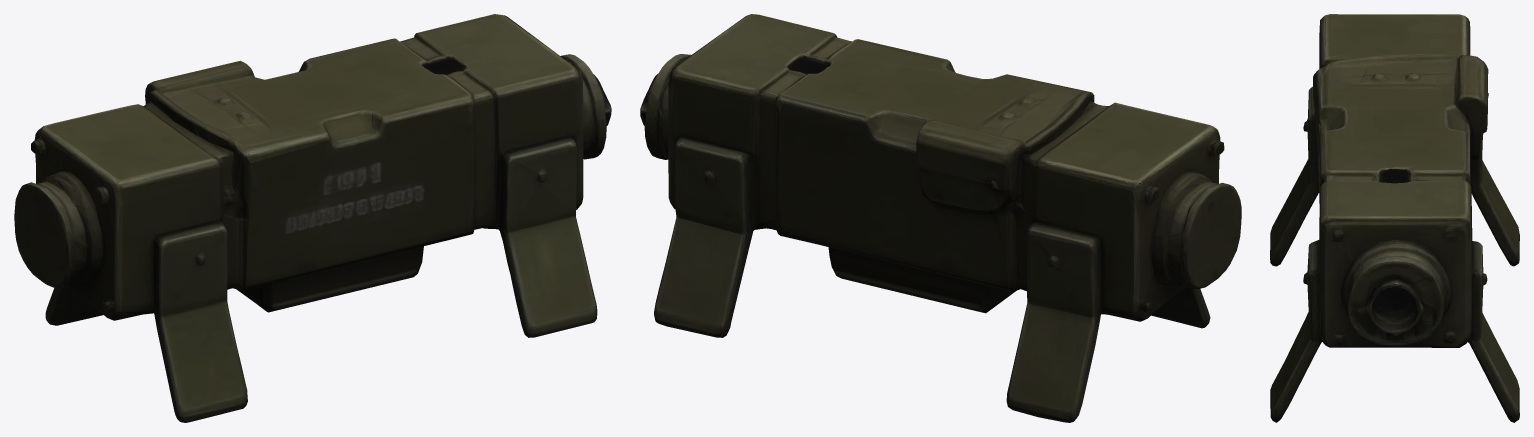
The model's file is black_claymore.glb.
3 renders of one model, left to right at view 1: azimuth 30°, elevation 25°; view 2: azimuth 150°, elevation 25°; view 3: azimuth 270°, elevation 25°, orthographic. The views are drawn at different scales.
Visible parts, largest first — view 1: geometry_0; view 2: geometry_0; view 3: geometry_0.
Boxes of the visible parts, x1,y1,x2,y2 form: geometry_0: (14, 14, 611, 422); geometry_0: (640, 14, 1241, 422); geometry_0: (1270, 14, 1519, 422).
Size of the model in its own units: 0.9994 by 0.4158 by 0.4268.
1 material, 1 textured.
